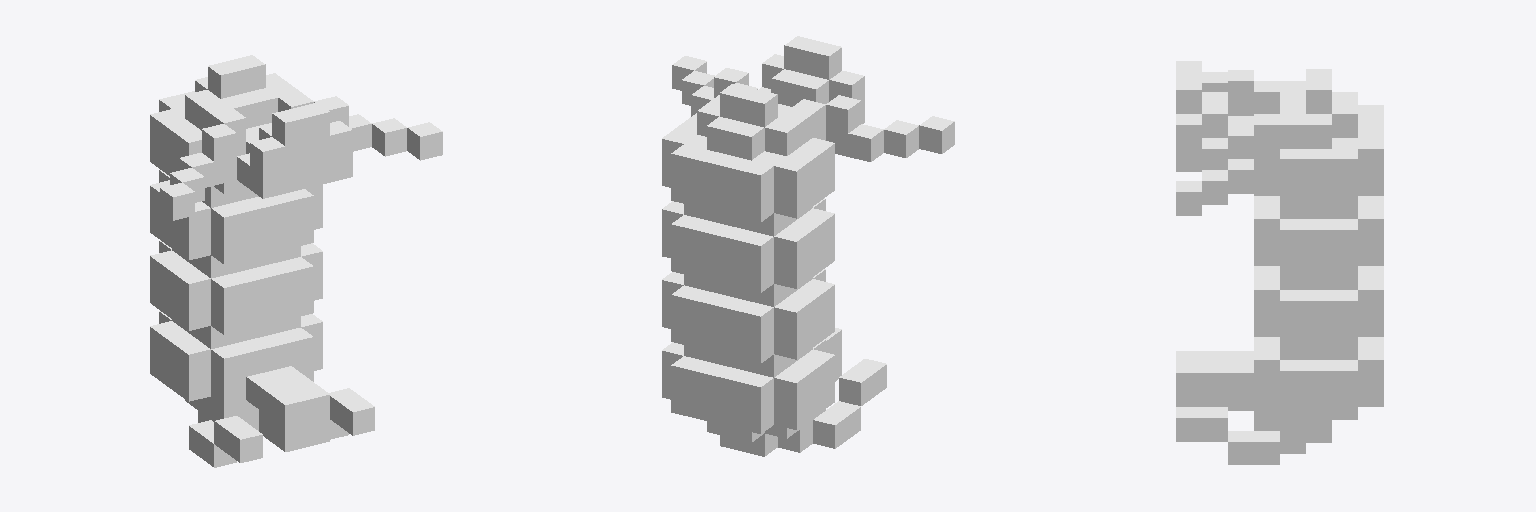
Rendered from MainCharBattery.obj.
The picture shows the model from 3 angles: view 1: azimuth 30°, elevation 25°; view 2: azimuth 150°, elevation 25°; view 3: azimuth 270°, elevation 25°; orthographic projection.
Visible parts, largest first — view 1: object 1; view 2: object 1; view 3: object 1.
Part boxes in pixels (left/top/right/bottom): object 1: left=150, top=55, right=442, bottom=467; object 1: left=662, top=36, right=954, bottom=456; object 1: left=1176, top=61, right=1383, bottom=464.
Bounding box in the file's own units: 1.2 × 1.5 × 0.8.